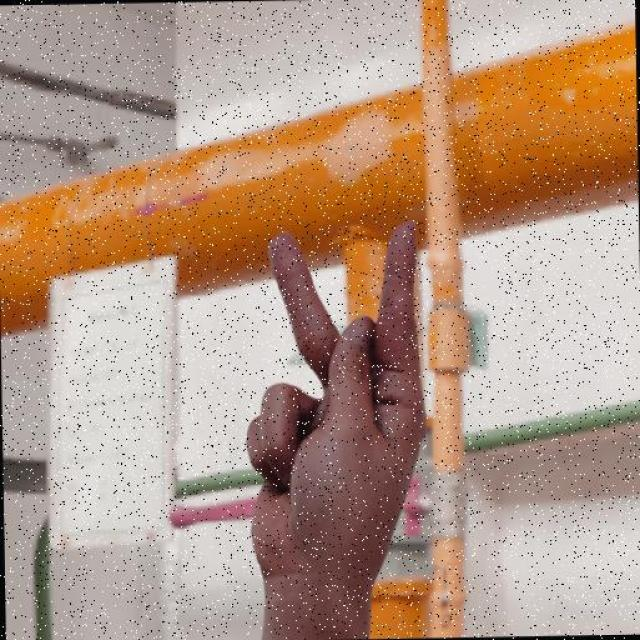K: (240, 217, 434, 587)
